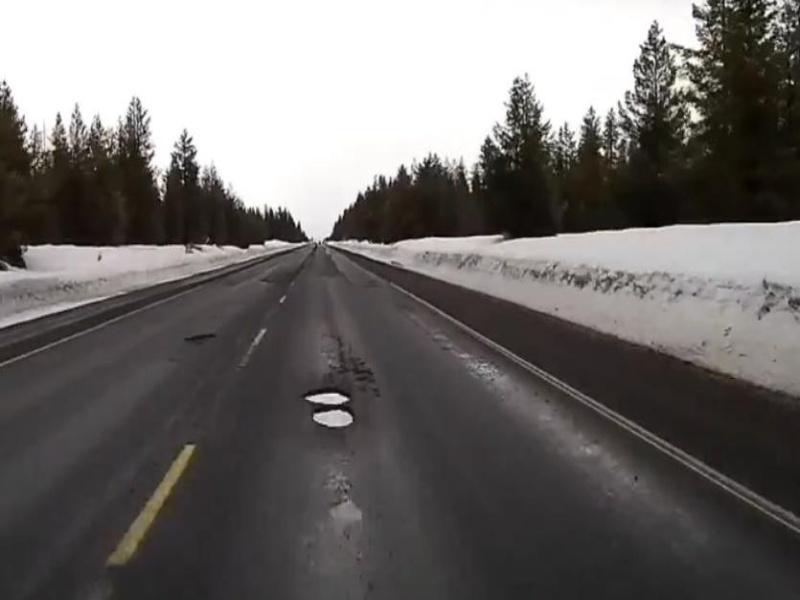pothole: (296, 380, 355, 407), (307, 409, 356, 430)
